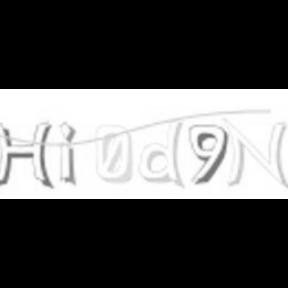0: (92, 120, 136, 186)
9: (188, 123, 228, 185)
H: (0, 119, 52, 191)
N: (222, 116, 288, 190)
d: (138, 117, 186, 191)
i: (58, 120, 80, 186)
